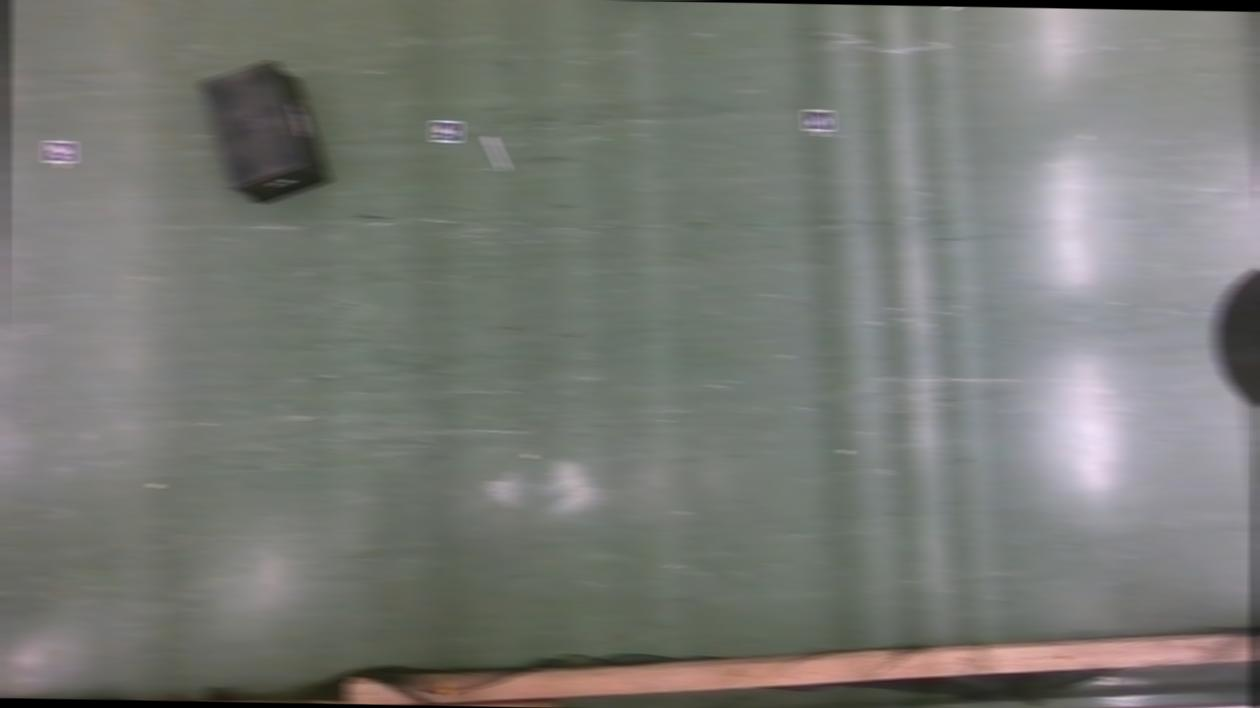probes: (486, 136, 509, 170)
rako: (196, 61, 332, 207)
